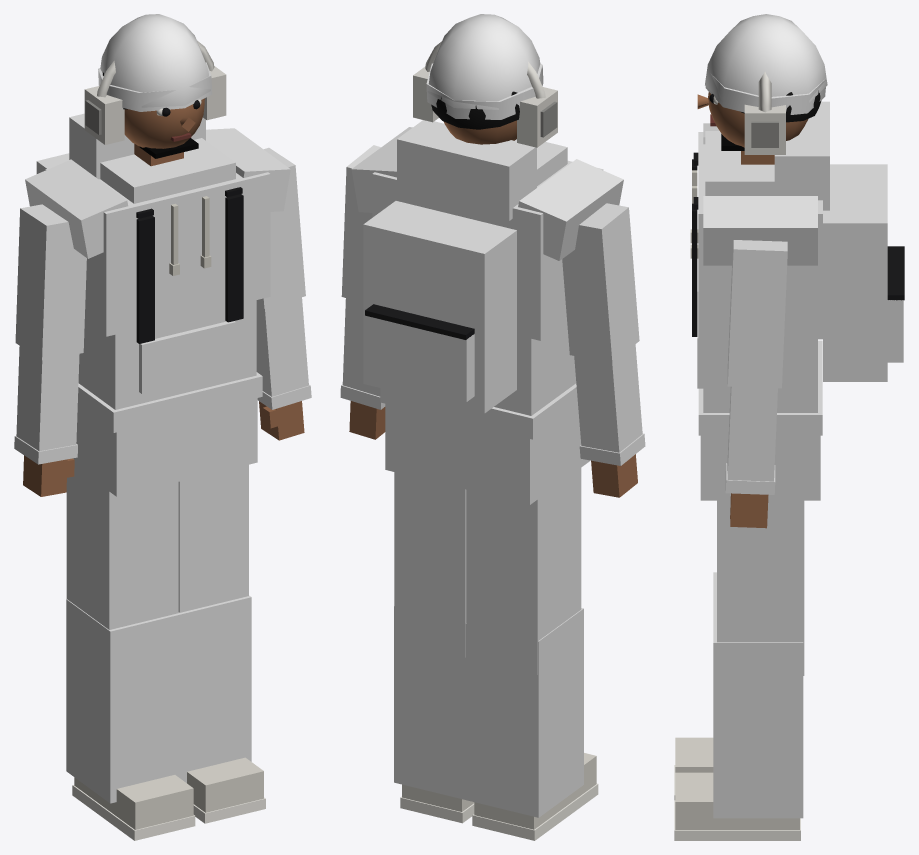
File: NPC_hoodie.fbx
3 views of the same model, side by side, from view 1: azimuth 30°, elevation 25°; view 2: azimuth 150°, elevation 25°; view 3: azimuth 270°, elevation 25° (orthographic). The views are drawn at different scales.
Parts seen in each view (by area): view 1: Body_Cloth_7a8ba1, Body_Cloth_222a3d, Arm_R_Cloth_222a3d, Body_Cloth_1a2030, Head_Cloth_34343a, Arm_L_Cloth_222a3d, Body_Mat_dedbd2, Body_Mat_141416, Head_Mat_dedcd6, Head_Skin.004, Body_Mat_f1efe8, Arm_R_Skin.001 (+4 smaller); view 2: Body_Cloth_7a8ba1, Body_Cloth_222a3d, Body_Cloth_2b2b2e, Arm_R_Cloth_222a3d, Head_Cloth_34343a, Arm_L_Cloth_222a3d, Body_Cloth_1a2030, Head_Mat_dedcd6, Body_Mat_dedbd2, Body_Mat_f1efe8, Body_Mat_141416, Arm_R_Skin.001 (+5 smaller); view 3: Body_Cloth_7a8ba1, Body_Cloth_222a3d, Body_Cloth_2b2b2e, Arm_L_Cloth_222a3d, Head_Cloth_34343a, Body_Mat_dedbd2, Body_Cloth_1a2030, Body_Mat_141416, Head_Mat_dedcd6, Body_Mat_f1efe8, Head_Skin.004, Arm_L_Skin.002 (+2 smaller).
Part boxes in pixels (x1,y1,x2,y2): Body_Cloth_7a8ba1: (66, 398, 257, 803); Body_Cloth_222a3d: (25, 113, 290, 409); Arm_R_Cloth_222a3d: (15, 204, 86, 451); Body_Cloth_1a2030: (77, 321, 262, 432); Head_Cloth_34343a: (98, 14, 212, 111); Arm_L_Cloth_222a3d: (256, 147, 308, 396); Body_Mat_dedbd2: (74, 757, 263, 829); Body_Mat_141416: (136, 187, 243, 343); Head_Mat_dedcd6: (84, 40, 226, 144); Head_Skin.004: (124, 98, 204, 148); Body_Mat_f1efe8: (72, 785, 265, 840); Arm_R_Skin.001: (23, 455, 74, 496); Body_Cloth_7a8ba1: (385, 403, 589, 817); Body_Cloth_222a3d: (351, 120, 623, 415); Body_Cloth_2b2b2e: (363, 201, 516, 413); Arm_R_Cloth_222a3d: (562, 203, 642, 452); Head_Cloth_34343a: (426, 14, 543, 119); Arm_L_Cloth_222a3d: (341, 145, 380, 396); Body_Cloth_1a2030: (380, 383, 578, 439); Head_Mat_dedcd6: (413, 41, 557, 147); Body_Mat_dedbd2: (402, 753, 596, 829); Body_Mat_f1efe8: (400, 783, 598, 840); Body_Mat_141416: (365, 304, 474, 339); Arm_R_Skin.001: (591, 454, 637, 497); Body_Cloth_7a8ba1: (700, 435, 820, 818); Body_Cloth_222a3d: (698, 101, 829, 412); Body_Cloth_2b2b2e: (823, 164, 903, 381); Arm_L_Cloth_222a3d: (727, 240, 787, 481); Head_Cloth_34343a: (705, 14, 827, 114); Body_Mat_dedbd2: (675, 737, 799, 829); Body_Cloth_1a2030: (697, 291, 822, 435); Body_Mat_141416: (692, 152, 904, 336); Head_Mat_dedcd6: (744, 71, 785, 154); Body_Mat_f1efe8: (674, 765, 800, 840); Head_Skin.004: (697, 92, 808, 147); Arm_L_Skin.002: (730, 493, 768, 528).
Size of the model in its own units: 0.699 by 1.89 by 0.5.
